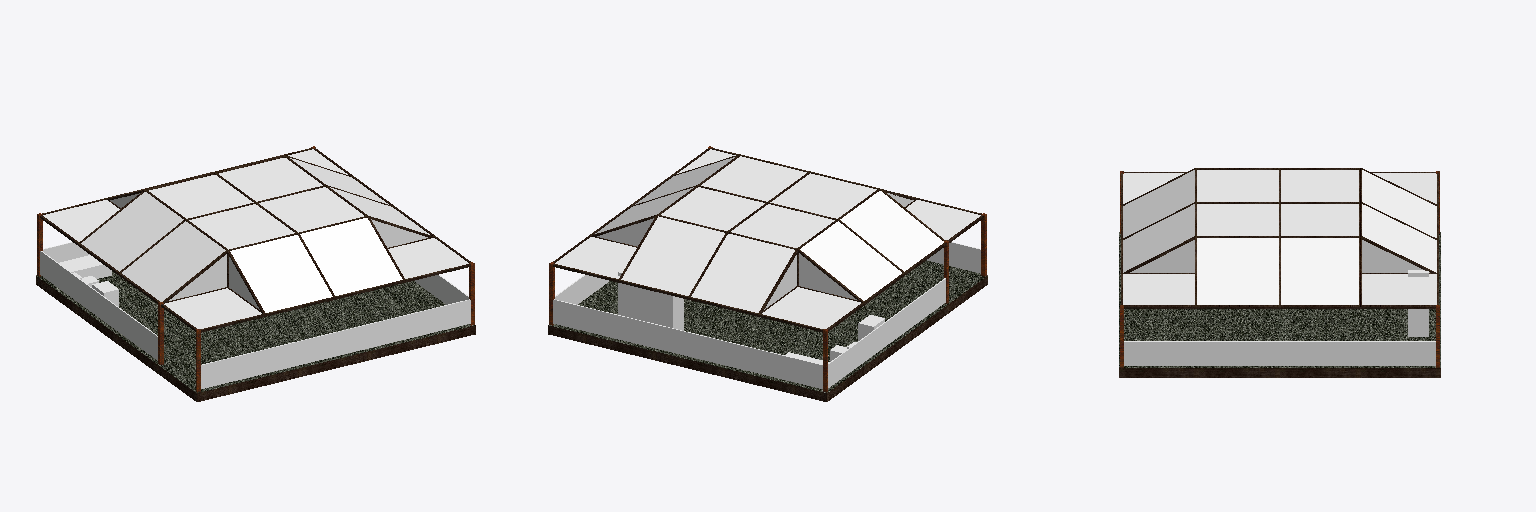
The picture shows the model from 3 angles: view 1: azimuth 30°, elevation 25°; view 2: azimuth 150°, elevation 25°; view 3: azimuth 270°, elevation 25°; orthographic projection.
Parts seen in each view (by area): view 1: entity0_brush0, entity0_brush22, entity0_brush18, entity0_brush60, entity0_brush1, entity0_brush4, entity0_brush8, entity0_brush32, entity0_brush25, entity0_brush47, entity0_patch11, entity0_brush5 (+4 smaller); view 2: entity0_brush0, entity0_brush22, entity0_brush57, entity0_brush60, entity0_brush3, entity0_brush4, entity0_brush47, entity5_brush0, entity0_brush32, entity0_brush38, entity0_brush8, entity0_patch51 (+6 smaller); view 3: entity0_brush0, entity0_brush32, entity0_brush22, entity0_brush2, entity0_brush57, entity0_brush18, entity0_brush38, entity0_brush25, entity0_brush54, entity0_patch29, entity0_patch42, entity0_brush47 (+2 smaller).
Boxes of the visible parts, <box> form: entity0_brush0: <box>36,271,475,401</box>; entity0_brush22: <box>149,158,363,249</box>; entity0_brush18: <box>230,218,402,312</box>; entity0_brush60: <box>81,192,225,301</box>; entity0_brush1: <box>201,299,470,388</box>; entity0_brush4: <box>40,251,157,360</box>; entity0_brush8: <box>164,288,261,328</box>; entity0_brush32: <box>290,158,429,234</box>; entity0_brush25: <box>388,238,468,278</box>; entity0_brush47: <box>43,200,119,241</box>; entity0_patch11: <box>169,254,226,300</box>; entity0_brush5: <box>200,264,470,332</box>; entity0_brush0: <box>548,260,987,401</box>; entity0_brush22: <box>661,156,876,247</box>; entity0_brush57: <box>621,216,794,312</box>; entity0_brush60: <box>800,191,943,300</box>; entity0_brush3: <box>553,299,822,388</box>; entity0_brush4: <box>828,278,945,387</box>; entity0_brush47: <box>762,287,860,328</box>; entity5_brush0: <box>618,267,683,330</box>; entity0_brush32: <box>595,157,734,233</box>; entity0_brush38: <box>555,237,636,278</box>; entity0_brush8: <box>906,200,980,239</box>; entity0_patch51: <box>799,253,856,299</box>; entity0_brush0: <box>1119,232,1440,377</box>; entity0_brush32: <box>1197,238,1358,304</box>; entity0_brush22: <box>1197,170,1358,235</box>; entity0_brush2: <box>1124,341,1435,365</box>; entity0_brush57: <box>1362,170,1436,272</box>; entity0_brush18: <box>1123,170,1194,272</box>; entity0_brush38: <box>1362,274,1436,304</box>; entity0_brush25: <box>1123,274,1194,304</box>; entity0_brush54: <box>1124,305,1435,308</box>; entity0_patch29: <box>1130,240,1194,272</box>; entity0_patch42: <box>1362,240,1429,272</box>; entity0_brush47: <box>1373,173,1436,203</box>.
Size of the model in its own units: 512 by 187 by 512.
5 materials, 3 textured.